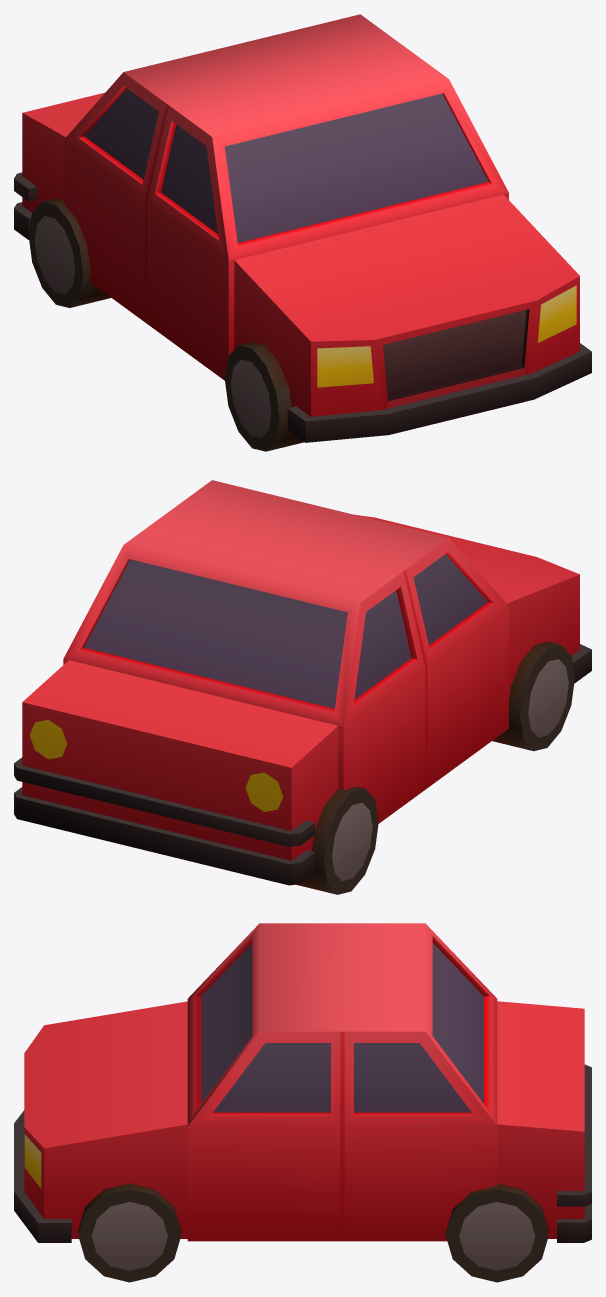
File: car.fbx
3 renders of one model, top to bottom at view 1: azimuth 30°, elevation 25°; view 2: azimuth 150°, elevation 25°; view 3: azimuth 270°, elevation 25°, orthographic. The views are drawn at different scales.
Parts seen in each view (by area): view 1: car; view 2: car; view 3: car.
Part boxes in pixels (left/top/right/bottom): car: left=14, top=14, right=591, bottom=451; car: left=14, top=480, right=591, bottom=894; car: left=14, top=923, right=591, bottom=1282.
Bounding box in the file's own units: 10.95 × 8.92 × 19.67.
